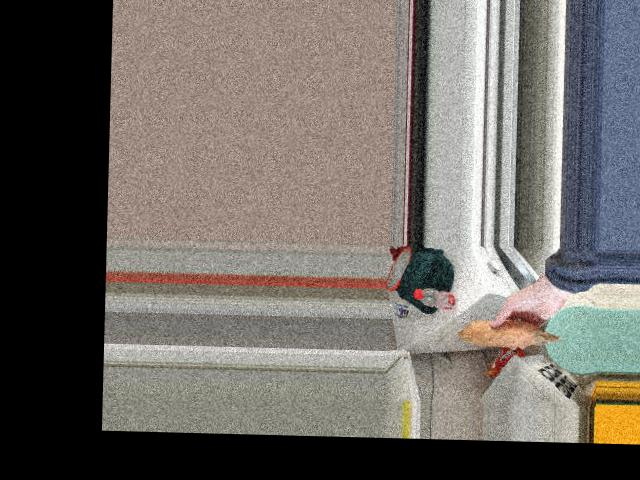sweet_potato: (460, 321, 548, 346)
